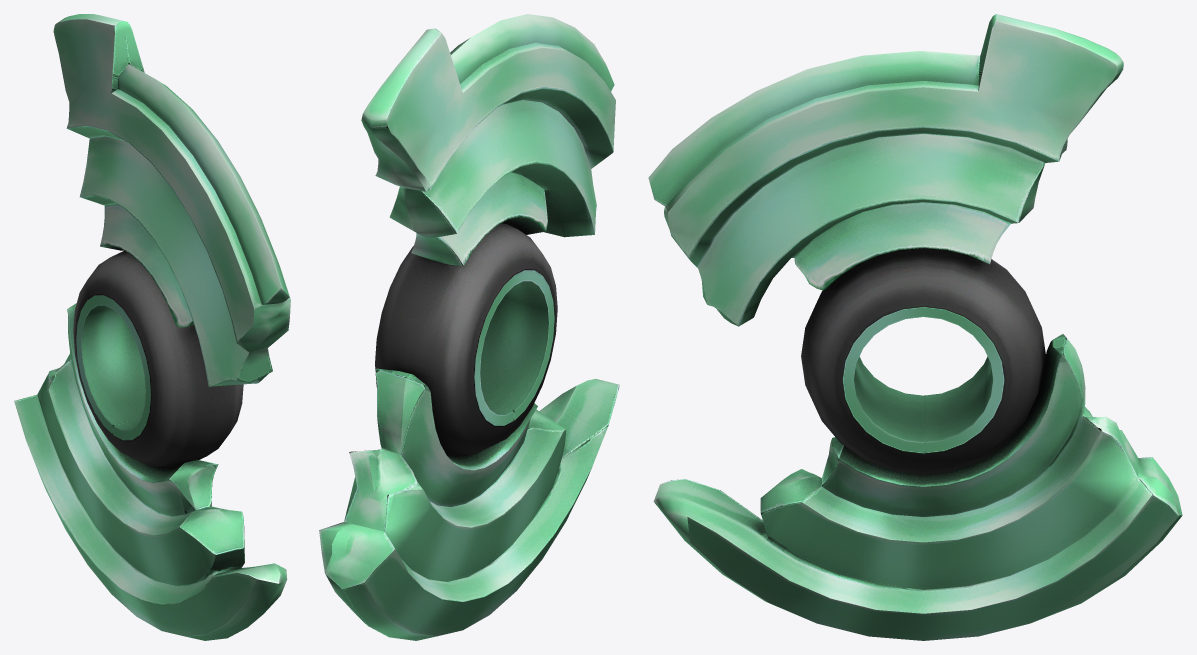
The model's file is hyperstone.fbx.
The picture shows the model from 3 angles, left to right: view 1: azimuth 30°, elevation 25°; view 2: azimuth 150°, elevation 25°; view 3: azimuth 270°, elevation 25°; orthographic projection. The views are drawn at different scales.
Visible parts, largest first — view 1: hyperstone; view 2: hyperstone; view 3: hyperstone.
Boxes of the visible parts, left/top/right/bottom form: hyperstone: left=14, top=14, right=290, bottom=640; hyperstone: left=319, top=14, right=619, bottom=640; hyperstone: left=648, top=14, right=1182, bottom=640.
Size of the model in its own units: 9.8 by 59.94 by 46.38.
